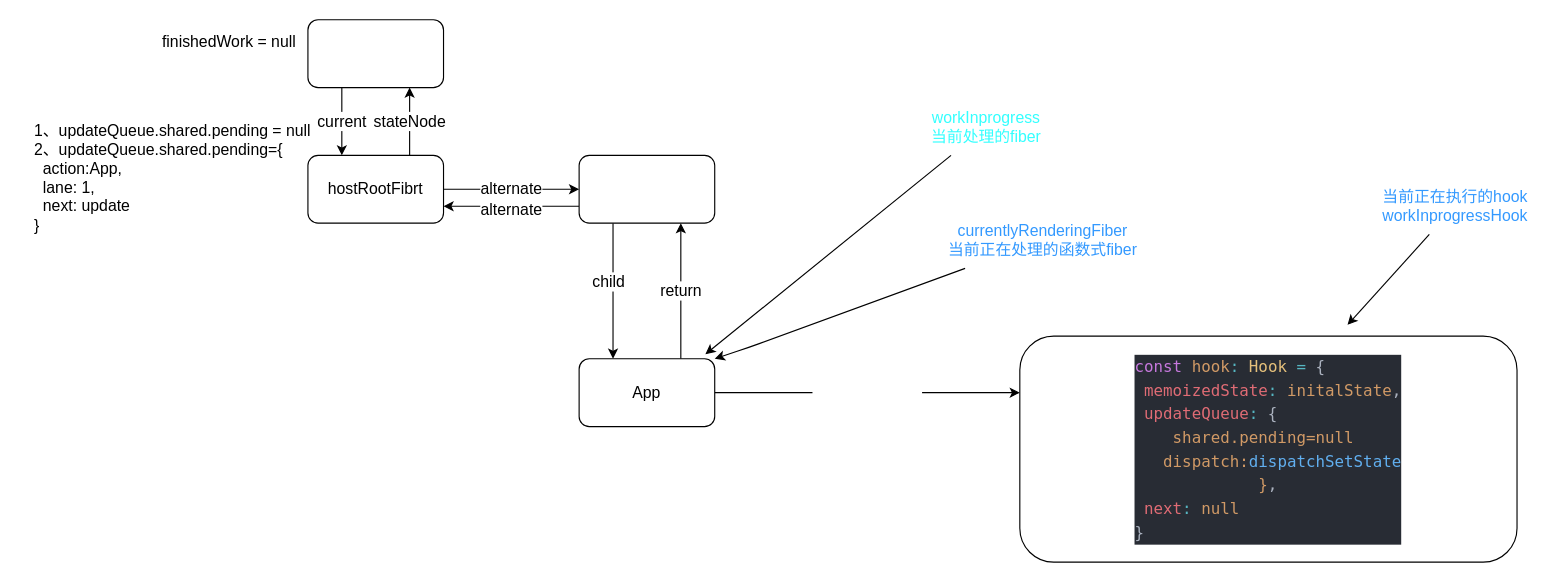
Image size: 1558x582. Some labels were removed from this diagram. Here are the shapes that lost their labels. From the top down, the centre of each, then its label:
[375,53]: root
[646,188]: wip
